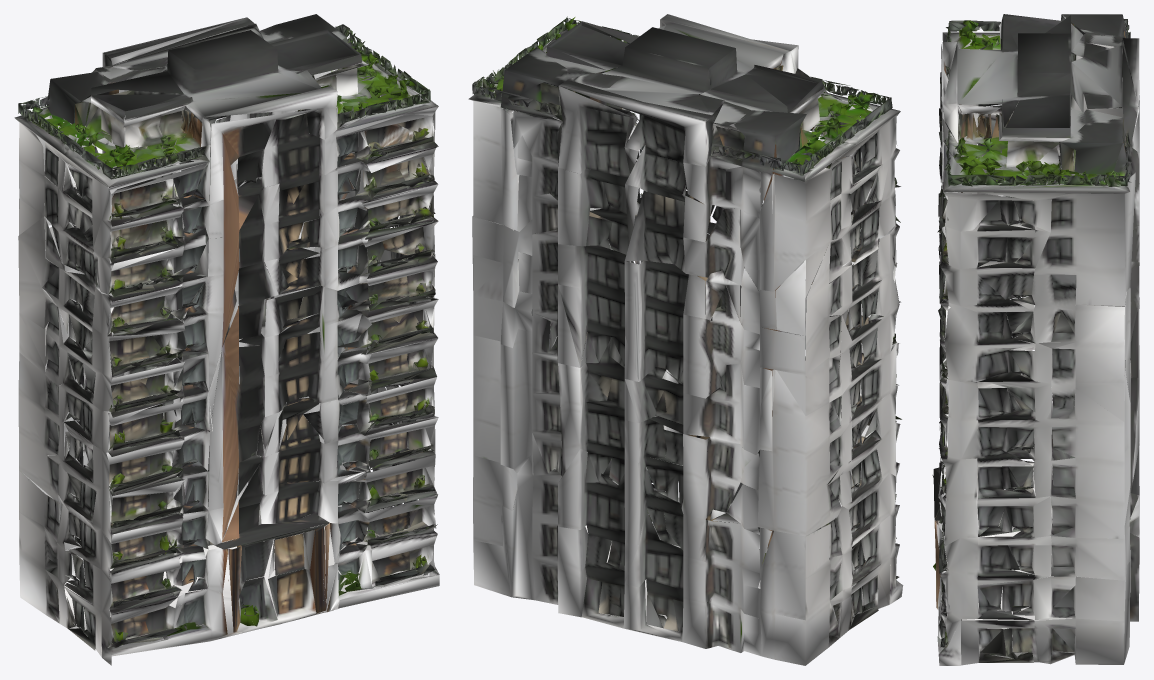
The model's file is World8ee8934c46.glb.
The picture shows the model from 3 angles, left to right: view 1: azimuth 30°, elevation 25°; view 2: azimuth 150°, elevation 25°; view 3: azimuth 270°, elevation 25°; orthographic projection. The views are drawn at different scales.
Visible parts, largest first — view 1: World8ee8934c46; view 2: World8ee8934c46; view 3: World8ee8934c46.
Part boxes in pixels (x1=…): World8ee8934c46: x1=14, y1=14, x2=439, y2=665; World8ee8934c46: x1=468, y1=14, x2=903, y2=665; World8ee8934c46: x1=932, y1=14, x2=1139, y2=665.
Bounding box in the file's own units: 4.52 × 7 × 2.47.
1 material, 1 textured.
